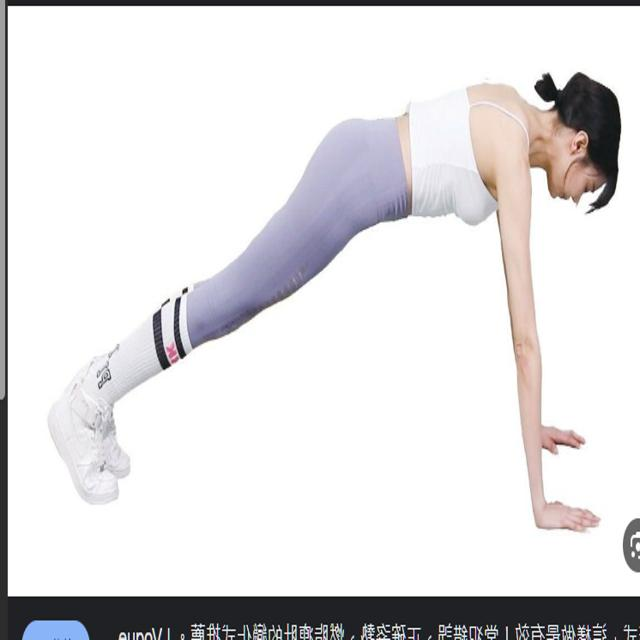Plank_Pose: (35, 62, 636, 550)
